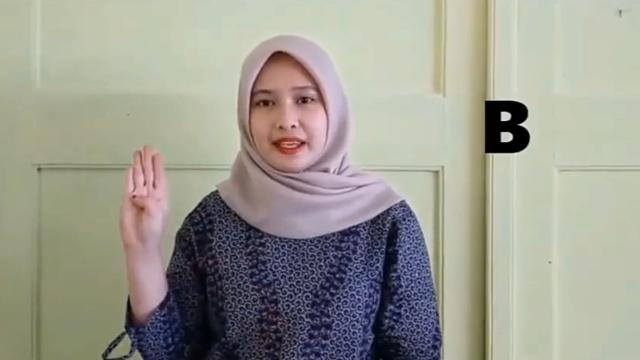B: (119, 142, 168, 246)
